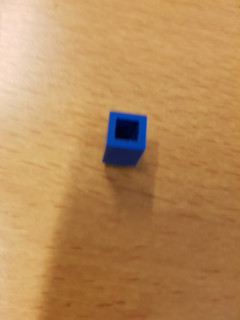1x1 blue: (102, 111, 146, 167)
